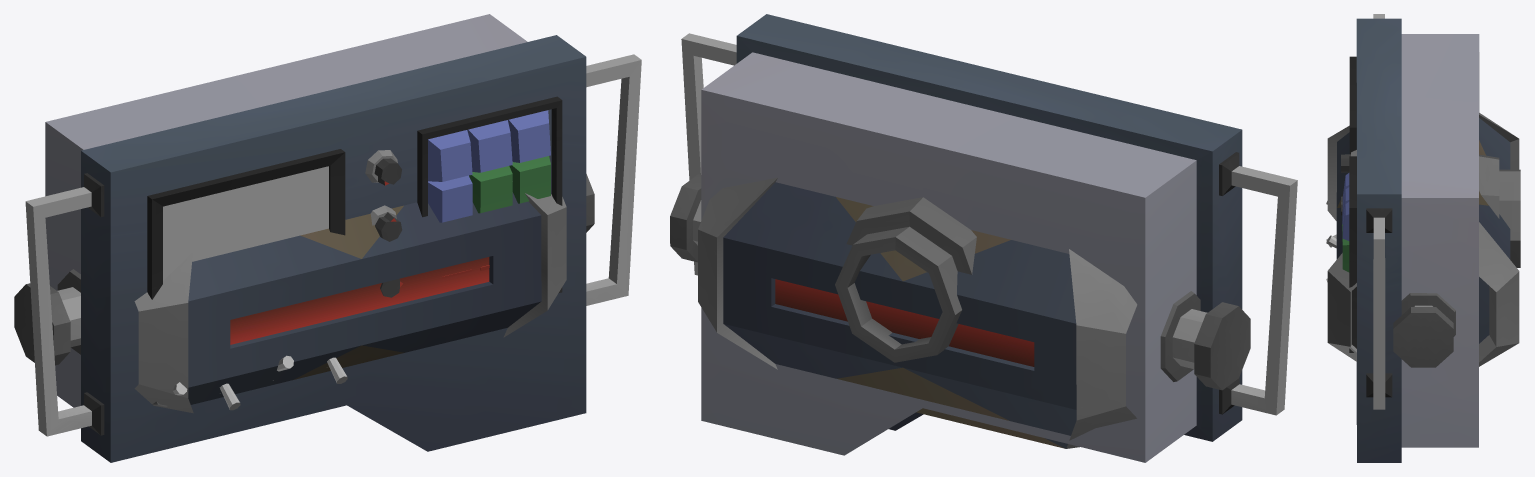
Rendered from Asset_Minijuegos.fbx.
3 renders of one model, left to right at view 1: azimuth 30°, elevation 25°; view 2: azimuth 150°, elevation 25°; view 3: azimuth 270°, elevation 25°, orthographic. The views are drawn at different scales.
Parts seen in each view (by area): view 1: Panel_soloCarcaza, Bateria_cuerpo, Panel_detalles, Bateria_decoracion, Pantalla_Panel; view 2: Panel_soloCarcaza, Bateria_cuerpo, Panel_detalles, Bateria_decoracion; view 3: Panel_soloCarcaza, Bateria_decoracion, Panel_detalles, Bateria_cuerpo.
Boxes of the visible parts, bbox=[...] form: Panel_soloCarcaza: bbox=[45, 14, 586, 462]; Bateria_cuerpo: bbox=[188, 192, 541, 404]; Panel_detalles: bbox=[25, 54, 641, 436]; Bateria_decoracion: bbox=[14, 174, 594, 413]; Pantalla_Panel: bbox=[163, 166, 328, 280]; Panel_soloCarcaza: bbox=[701, 14, 1242, 462]; Bateria_cuerpo: bbox=[723, 182, 1076, 448]; Panel_detalles: bbox=[681, 33, 1297, 415]; Bateria_decoracion: bbox=[670, 174, 1250, 448]; Panel_soloCarcaza: bbox=[1356, 18, 1479, 462]; Bateria_decoracion: bbox=[1327, 113, 1519, 367]; Panel_detalles: bbox=[1326, 14, 1520, 409]; Bateria_cuerpo: bbox=[1336, 118, 1510, 259].
Size of the model in its own units: 0.393 by 0.2201 by 0.1443.
Materials: 2 (1 with a texture image).
